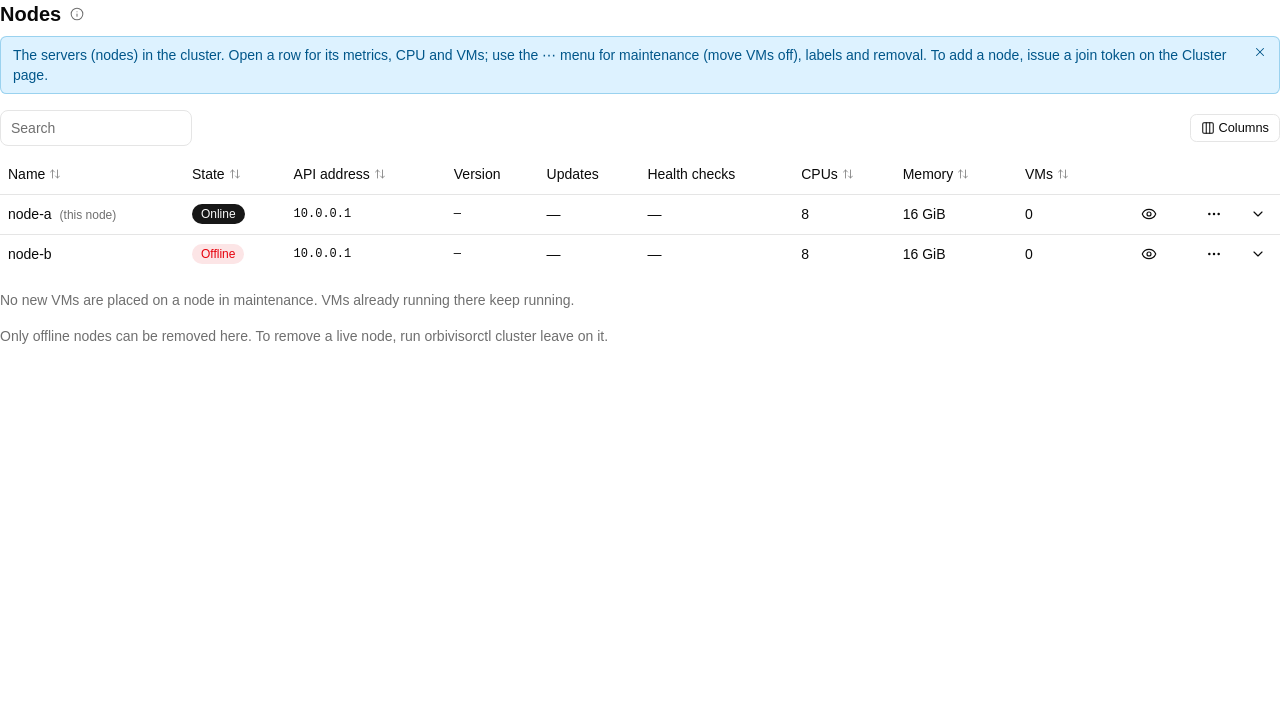
Test: shows what is left to do by hand after removing a node
Click the button named "Actions for node-b": (1214, 254) x1=1200 y1=240 x2=1228 y2=268
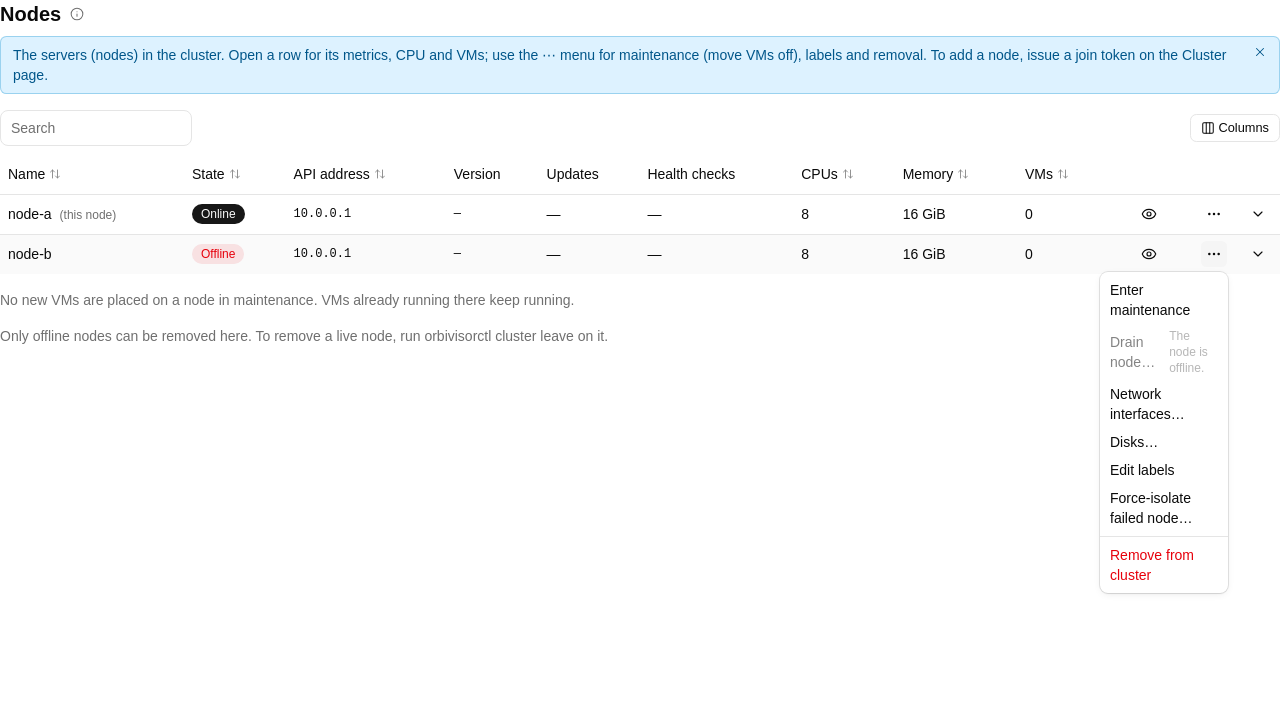
Click the menu item "Remove from cluster": (1152, 565) x1=1110 y1=547 x2=1194 y2=583
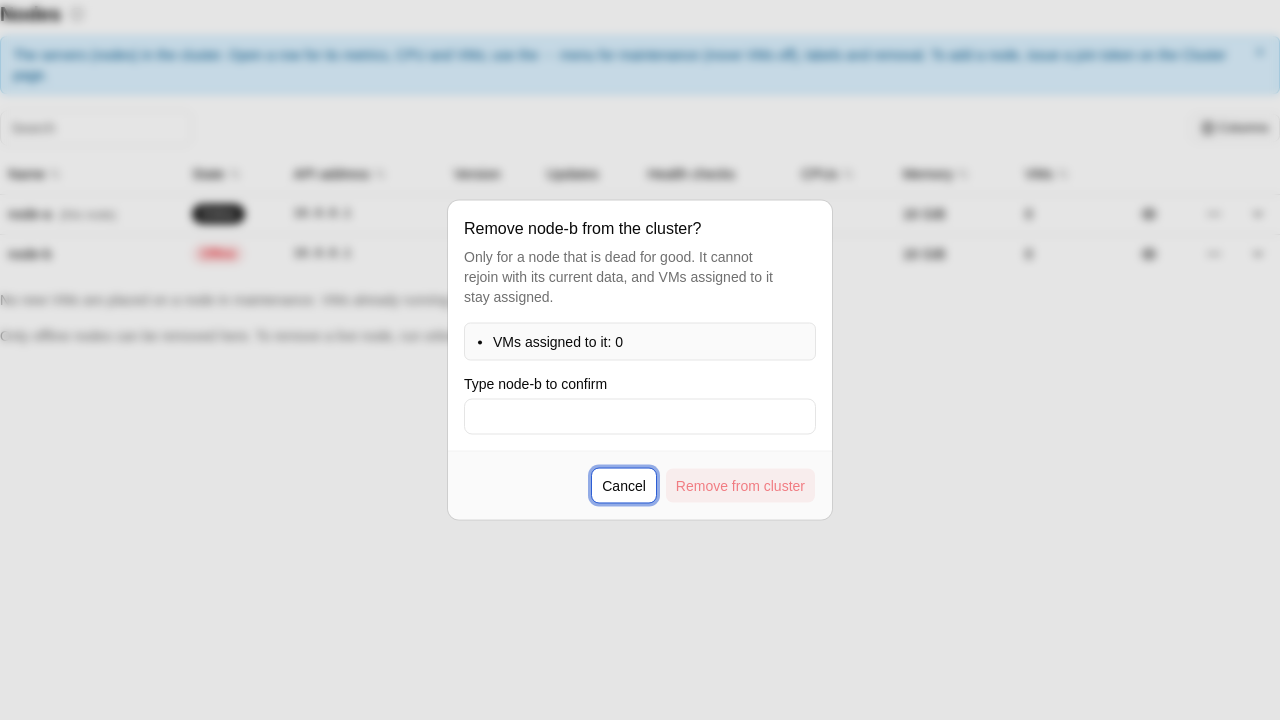
In the field labelled "Type node-b to confirm": (640, 416) x1=464 y1=398 x2=816 y2=434, type "node-b"
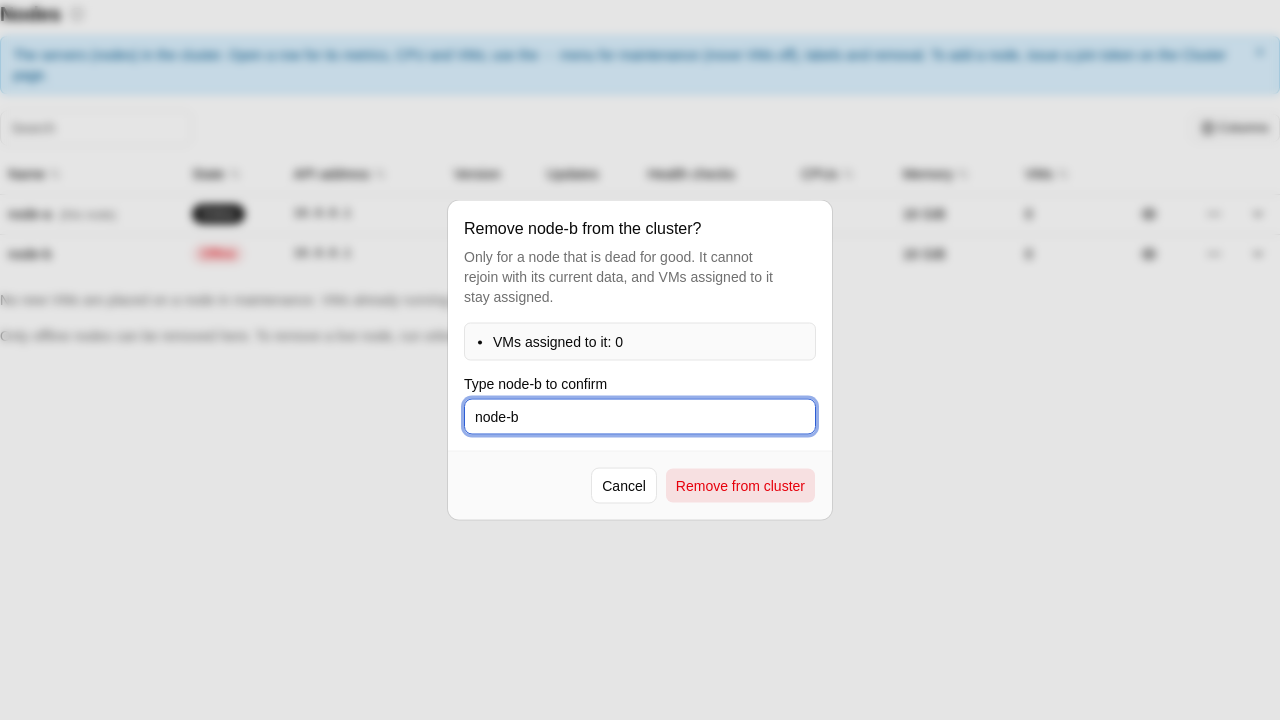
Click the button "Remove from cluster": (740, 486) x1=665 y1=468 x2=816 y2=504
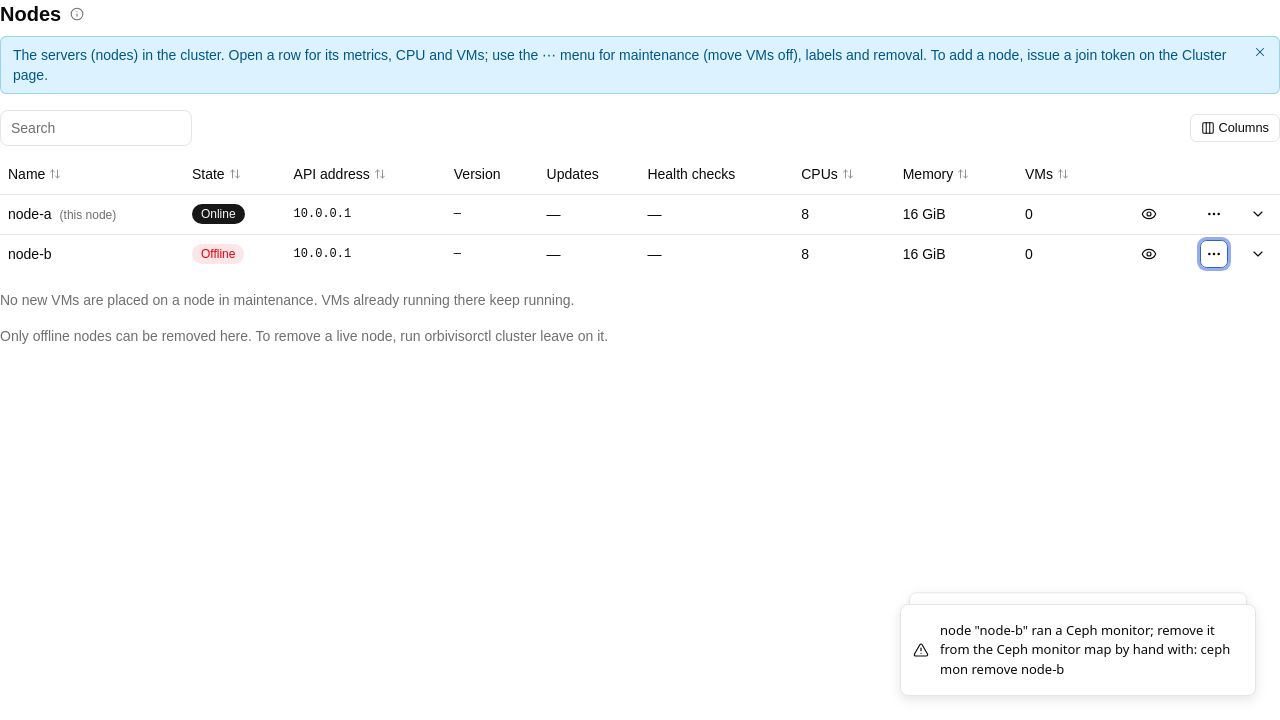
Result: the text "ceph mon remove node-b" is shown at x1=940 y1=620 x2=1230 y2=678
